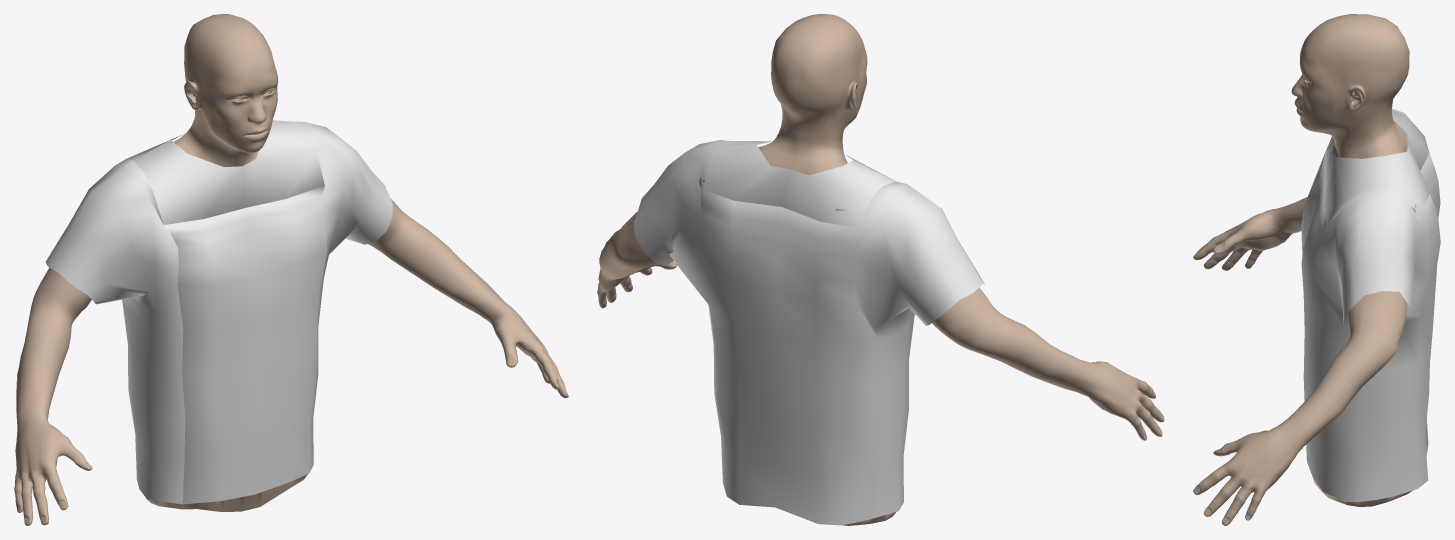
The picture shows the model from 3 angles, left to right: view 1: azimuth 30°, elevation 25°; view 2: azimuth 150°, elevation 25°; view 3: azimuth 270°, elevation 25°; orthographic projection. The views are drawn at different scales.
Visible parts, largest first — view 1: Cube, Base; view 2: Cube, Base; view 3: Cube, Base.
Boxes of the visible parts, x1,y1,x2,y2 form: Cube: (45, 120, 392, 504); Base: (14, 14, 568, 525); Cube: (634, 140, 984, 525); Base: (597, 14, 1164, 525); Cube: (1301, 108, 1440, 502); Base: (1193, 14, 1419, 525).
Bounding box in the file's own units: 9.95 × 8.3 × 4.05.
